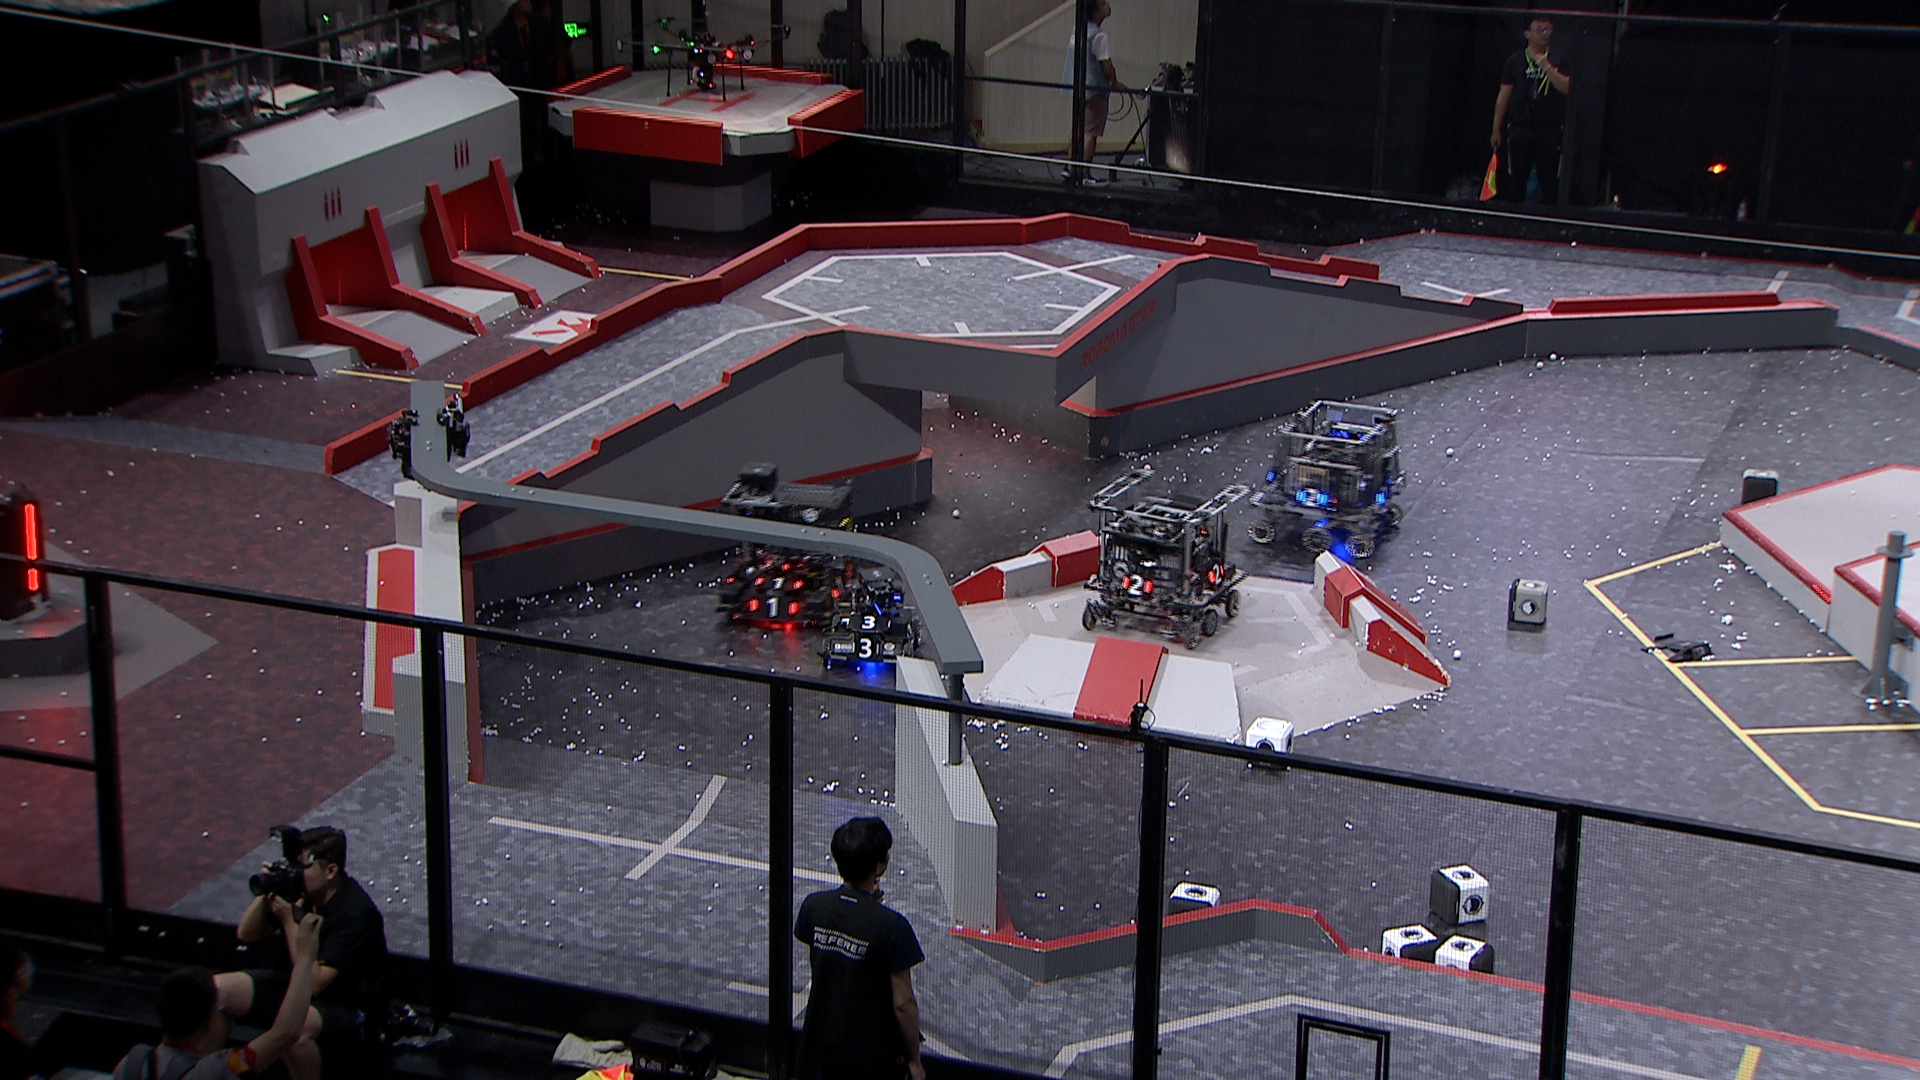armor: (17, 498, 44, 593), (745, 597, 802, 618), (839, 613, 893, 632), (750, 574, 803, 591), (1295, 485, 1332, 509), (1120, 574, 1154, 597), (851, 636, 880, 659), (827, 574, 851, 599), (1373, 485, 1395, 509), (1207, 560, 1225, 588), (902, 618, 918, 641)
car: (1081, 463, 1245, 651), (1245, 398, 1406, 560), (711, 477, 861, 632), (818, 571, 924, 670)
watcher: (386, 394, 468, 480)
